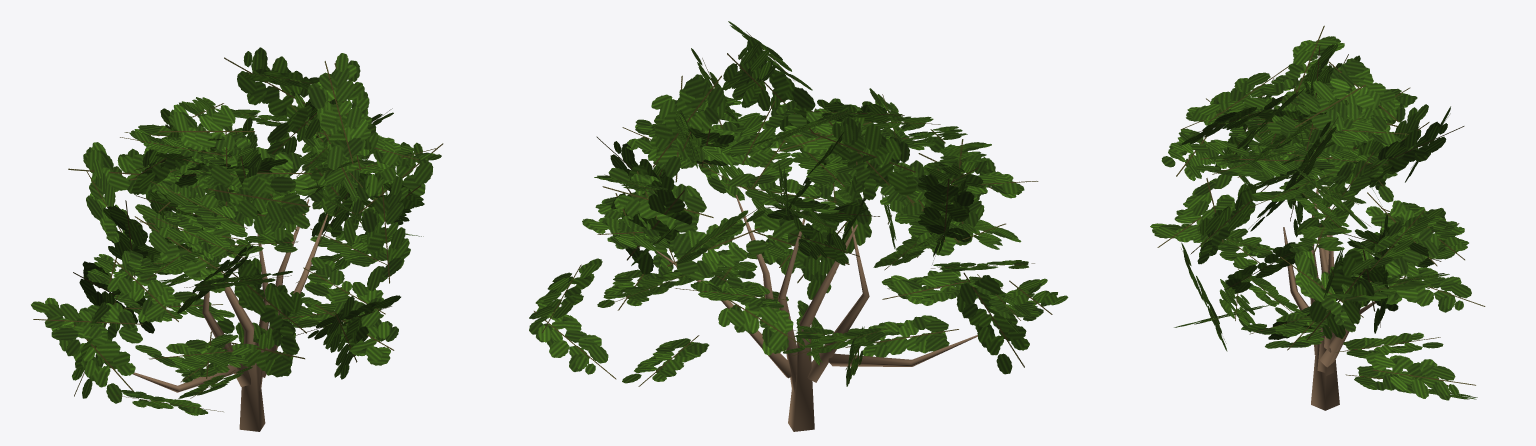
Rendered from mid.glb.
3 views of the same model, side by side, from view 1: azimuth 30°, elevation 25°; view 2: azimuth 150°, elevation 25°; view 3: azimuth 270°, elevation 25° (orthographic). The views are drawn at different scales.
Visible parts, largest first — view 1: foliage.001, bark.001; view 2: foliage.001, bark.001; view 3: foliage.001, bark.001.
Part boxes in pixels (box(x1,y1,x2,y2)): foliage.001: box(31, 47, 443, 415); bark.001: box(132, 199, 327, 431); foliage.001: box(529, 21, 1068, 386); bark.001: box(656, 195, 977, 431); foliage.001: box(1150, 25, 1485, 400); bark.001: box(1283, 185, 1375, 410).
Bounding box in the file's own units: 25.28 × 19.31 × 18.64.
2 materials, 1 textured.
